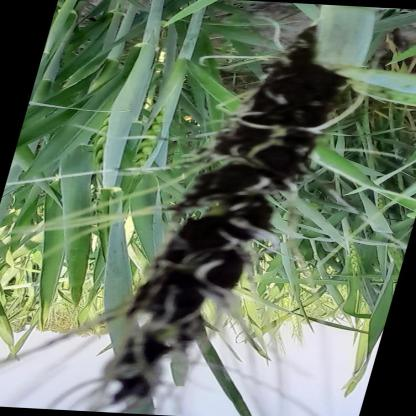Wheat Smut: (149, 276, 207, 318), (171, 232, 237, 268), (198, 171, 284, 192), (228, 142, 304, 165), (197, 202, 267, 226), (244, 115, 317, 136), (256, 90, 320, 113), (127, 328, 188, 351), (116, 366, 155, 399), (270, 66, 328, 86), (301, 32, 314, 59), (331, 91, 347, 105)
